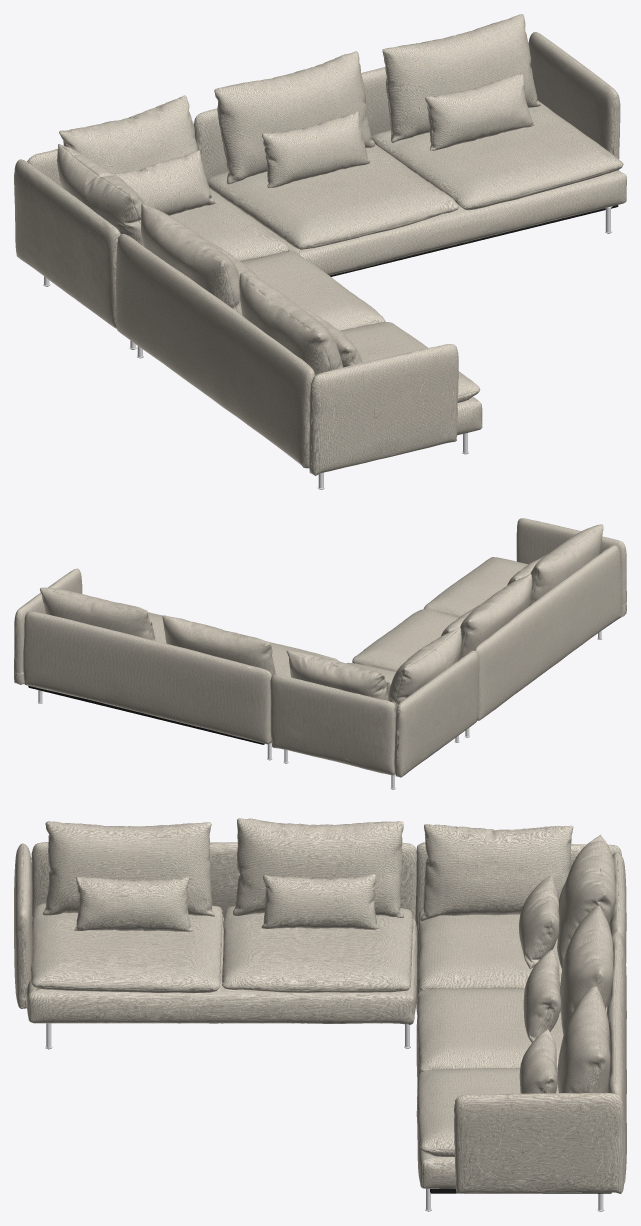
Rendered from soderhamn_narozna_sofa_rozkadana_6_osobowa_79616203.glb.
The picture shows the model from 3 angles, top to bottom: view 1: azimuth 30°, elevation 25°; view 2: azimuth 150°, elevation 25°; view 3: azimuth 270°, elevation 25°; orthographic projection. The views are drawn at different scales.
Visible parts, largest first — view 1: soderhamn_narozna_sofa_rozkadana_6_osobowa_79616203; view 2: soderhamn_narozna_sofa_rozkadana_6_osobowa_79616203; view 3: soderhamn_narozna_sofa_rozkadana_6_osobowa_79616203.
Boxes of the visible parts, x1=… form: soderhamn_narozna_sofa_rozkadana_6_osobowa_79616203: x1=14, y1=14, x2=626, y2=489; soderhamn_narozna_sofa_rozkadana_6_osobowa_79616203: x1=14, y1=518, x2=626, y2=789; soderhamn_narozna_sofa_rozkadana_6_osobowa_79616203: x1=14, y1=818, x2=626, y2=1211.
Size of the model in its own units: 2.91 by 0.8301 by 2.91.
Materials: 4 (1 with a texture image).
